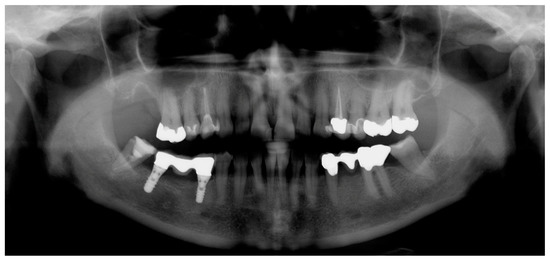incisor: (272, 91, 297, 141), (251, 89, 273, 141), (249, 153, 267, 203), (235, 152, 249, 208), (306, 155, 321, 204), (297, 93, 313, 138), (292, 154, 305, 204)
molar: (149, 83, 190, 146), (388, 131, 433, 181), (360, 81, 396, 137), (388, 84, 424, 135)
premolar: (196, 83, 223, 144), (183, 85, 201, 139)
